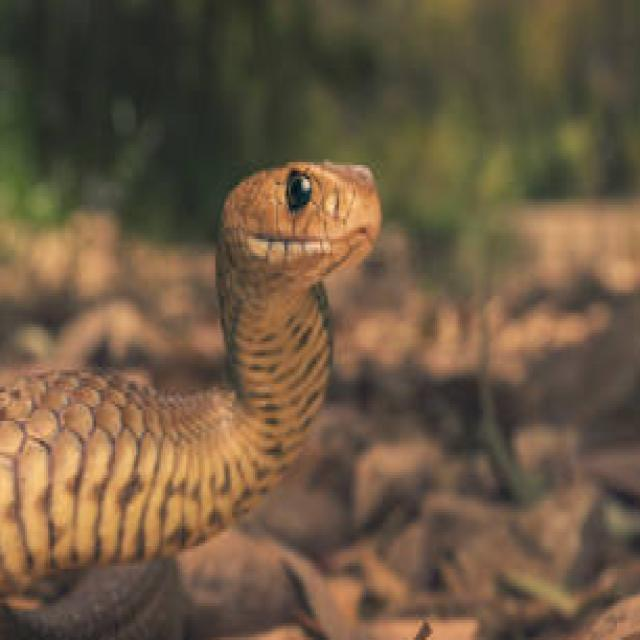Snake: (0, 153, 382, 640)
